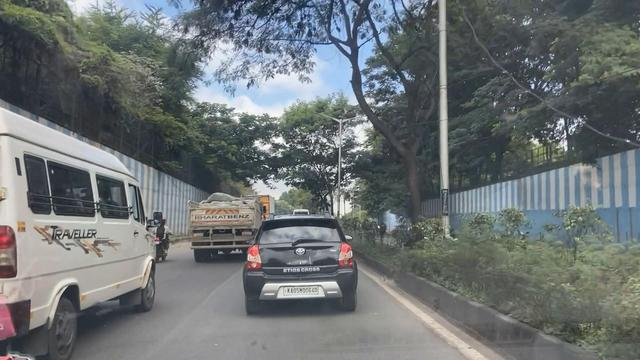HMV: (0, 103, 185, 356), (186, 173, 271, 266)
LMV: (236, 203, 377, 331)
